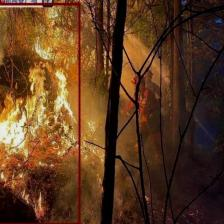fire: (0, 2, 80, 224)
